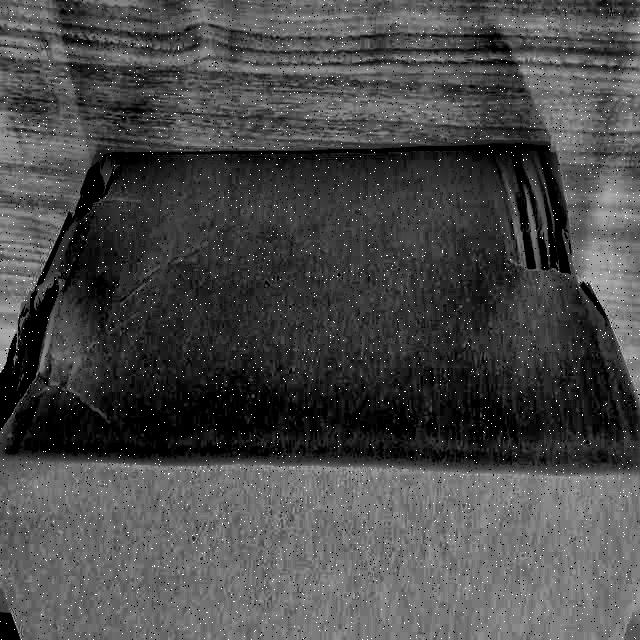box: (1, 138, 640, 640)
hole: (497, 185, 598, 320), (23, 271, 67, 353), (65, 155, 116, 225)
